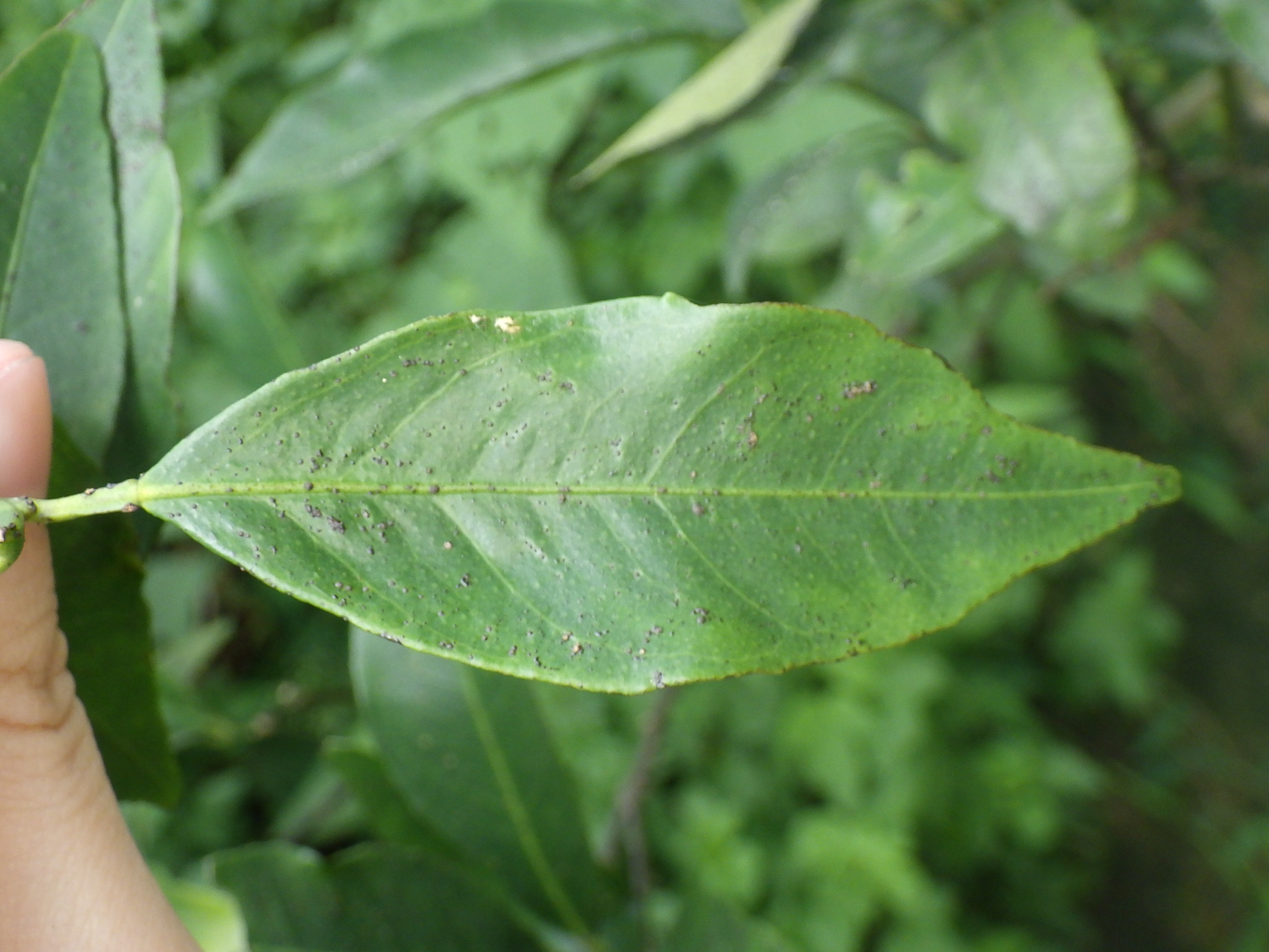Black_Spot: (49, 295, 1179, 692)
